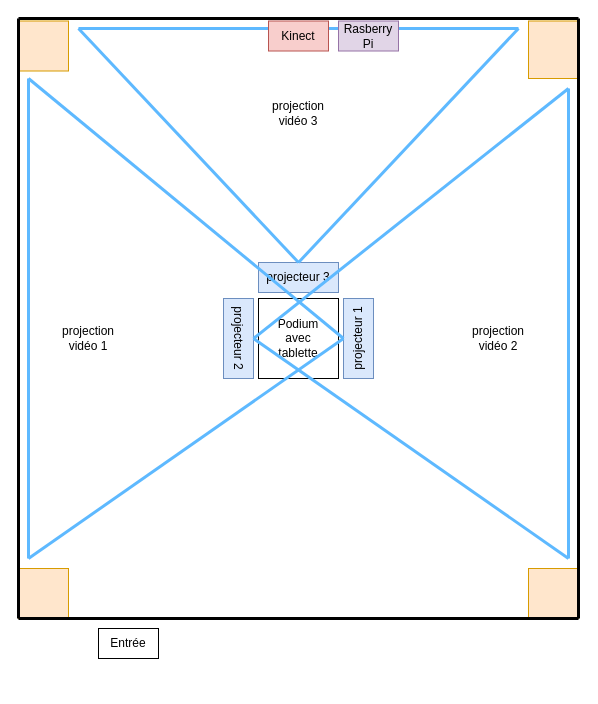
Some shapes in this 598 by 704 pixel diagram are drawn without their labels. Here are the shapes that lost their labels. From the top down, the box of each, then its label:
(18, 20, 68, 71): haut-parleur 1
(528, 20, 578, 78): haut-parleur 2
(18, 568, 68, 618): haut-parleur 3
(528, 568, 578, 618): haut-parleur 4
